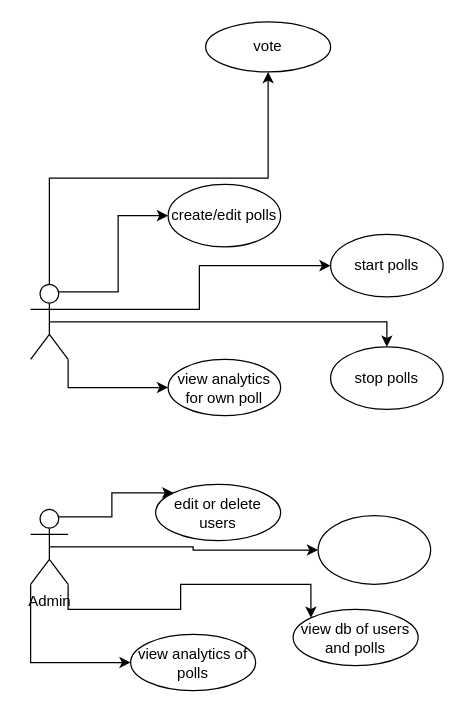
Some shapes in this 465 by 713 pixel diagram are drawn without their labels. Here are the shapes that lost their labels. From the top down, the centre of each, then its label:
At [48,321]: "User".
At [374,549]: "edit or delete polls".
